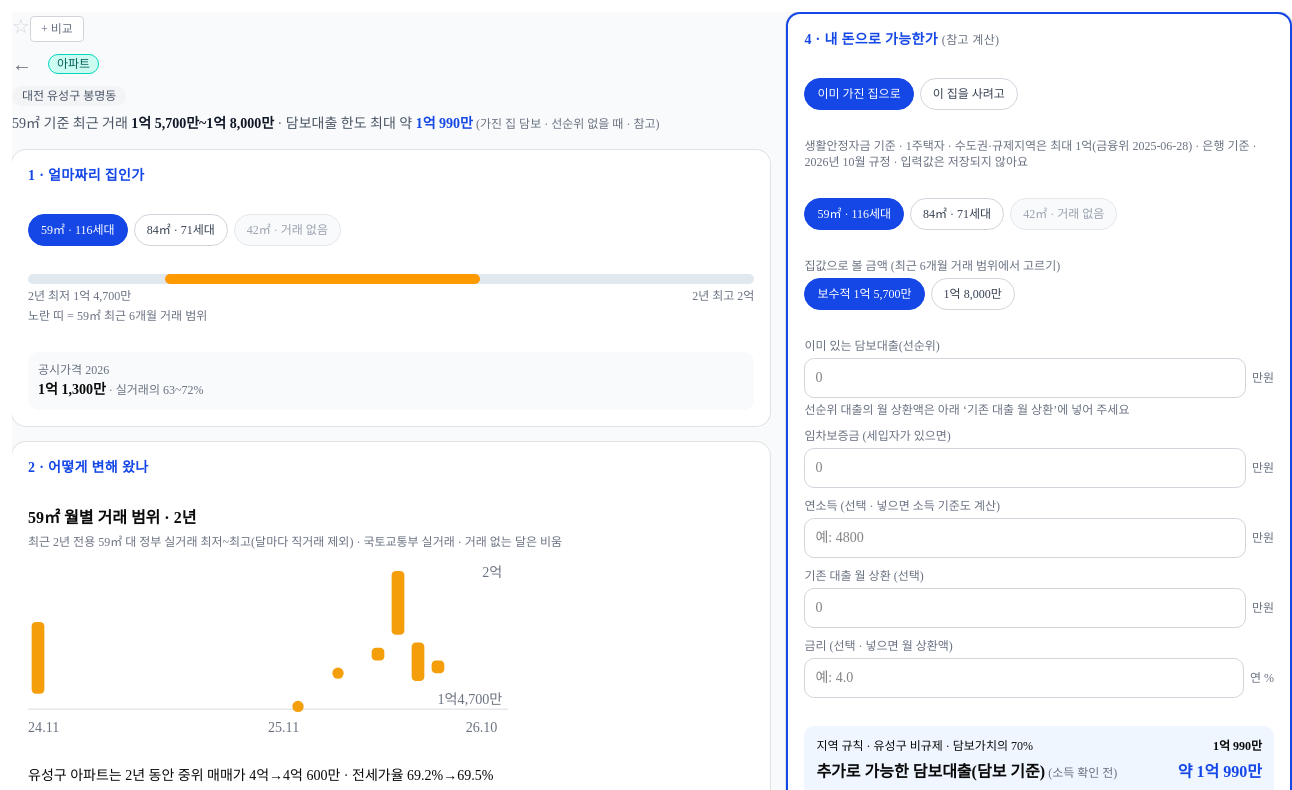
Test: ConsumerComplexView › 면적을 바꾸면 S1·요약·B1 이 같이 바뀐다
The image size is (1292, 790).
Expected: the text "2년 최고 2억" is shown, [692,288,754,304]
Click the button "84㎡ · 71세대" below "1 · 얼마짜리 집인가": (181, 230) [134,214,228,246]
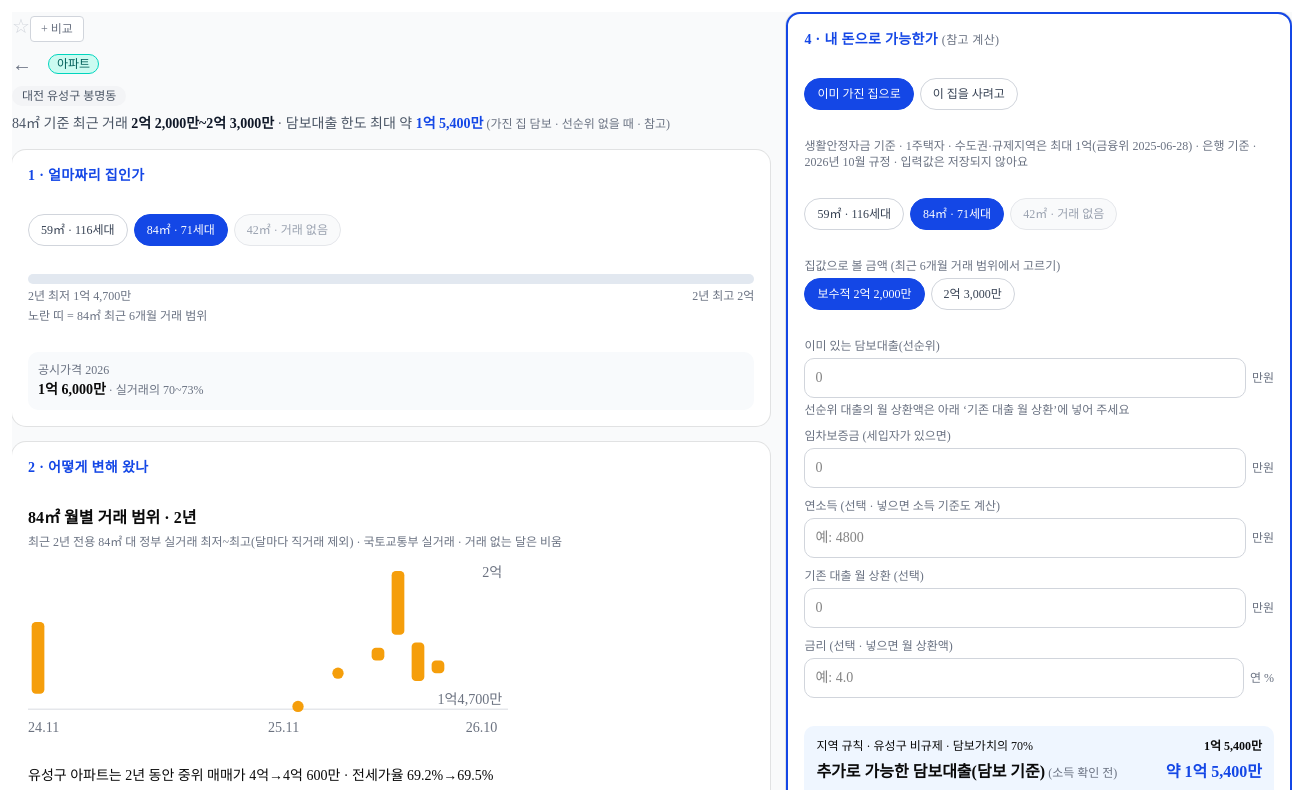
Result: the text "노란 띠 = 84㎡ 최근 6개월 거래 범위" is shown at [28,309,207,323]
Result: the element with test id "consumer-summary" shows "84㎡ 기준" at [12,116,73,131]
Result: the button "보수적 2억 2,000만" is shown at [804,278,925,310]
